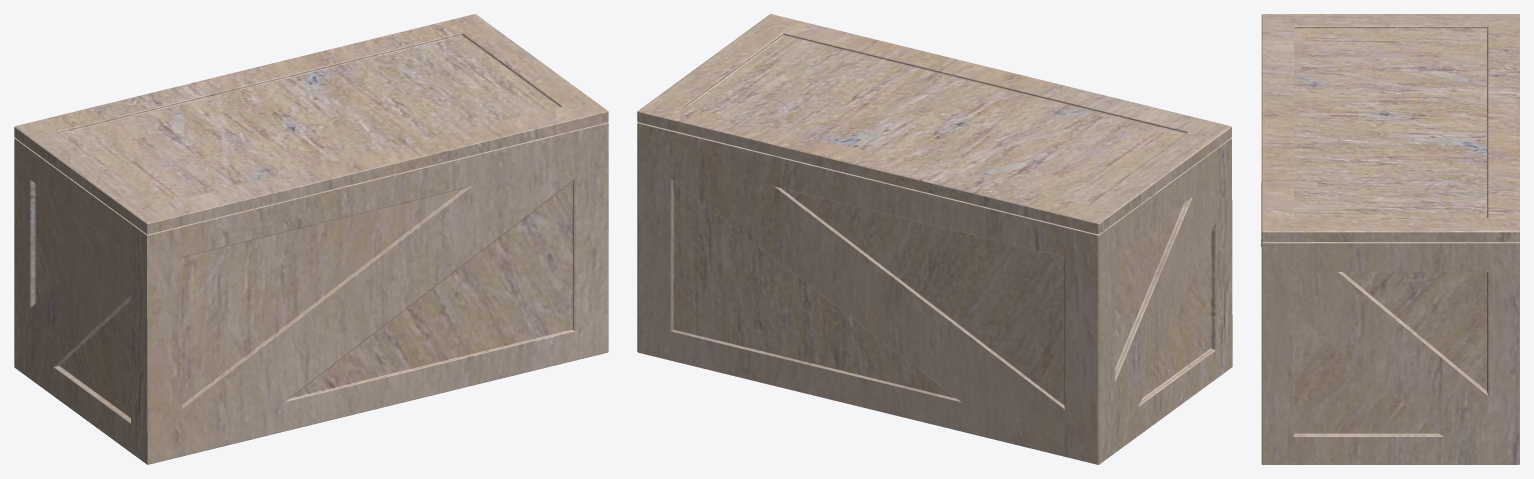
Rendered from Crate2.fbx.
The picture shows the model from 3 angles, left to right: view 1: azimuth 30°, elevation 25°; view 2: azimuth 150°, elevation 25°; view 3: azimuth 270°, elevation 25°; orthographic projection. The views are drawn at different scales.
Parts seen in each view (by area): view 1: Cube; view 2: Cube; view 3: Cube.
Part boxes in pixels (box(x1,y1,x2,y2)): Cube: box(14, 14, 608, 464); Cube: box(637, 14, 1232, 464); Cube: box(1261, 14, 1519, 464).
Bounding box in the file's own units: 400 × 200 × 201.
